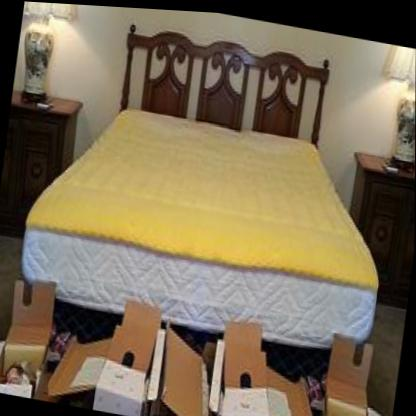Bed: (12, 4, 405, 370)
